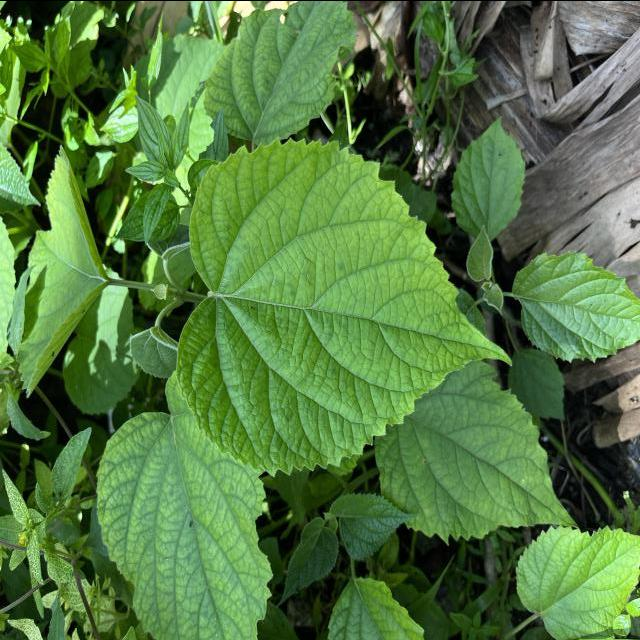Clerodendrum infortunatum: (175, 134, 514, 481), (95, 367, 276, 640), (371, 359, 581, 547), (202, 0, 361, 145)
